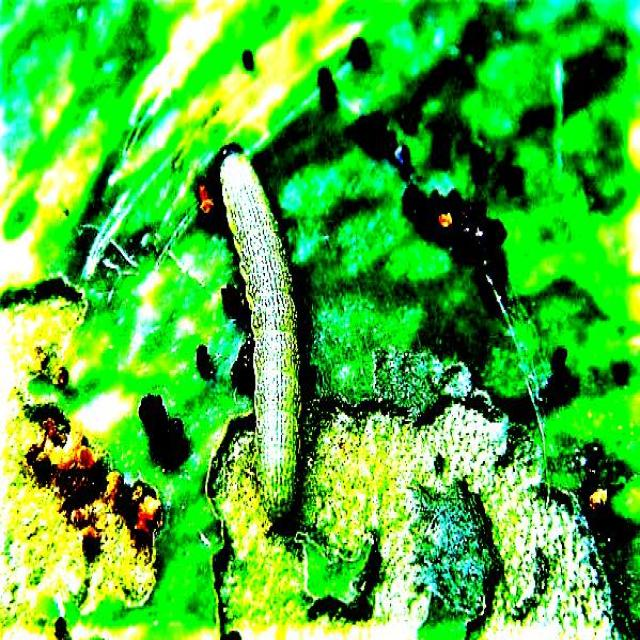Armyworm: (189, 129, 331, 538)
